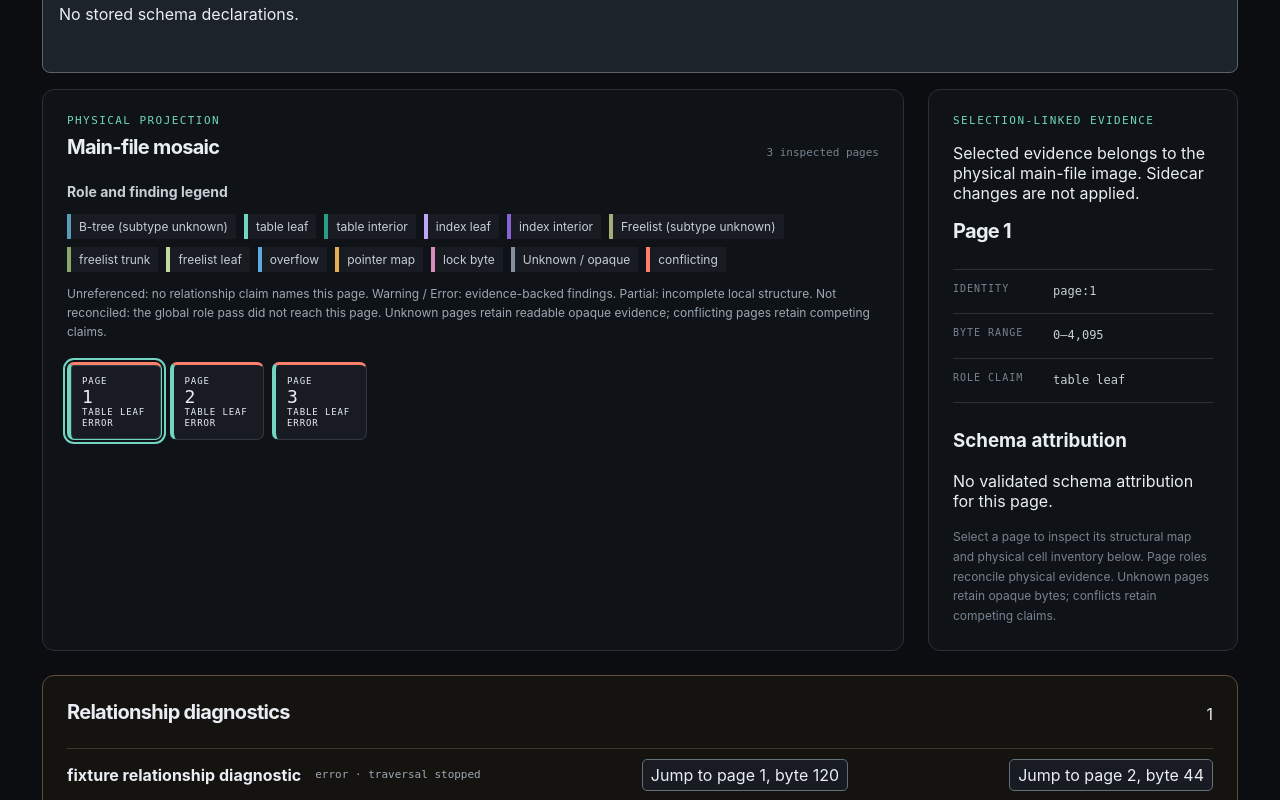
Scenario: page atlas › keeps sidecar consequences visible while selecting main-file pages
This screenshot has width=1280, height=800.
(page scrolled)
Click the button "Page 2 table leaf Error" at (217, 401), box [170,362,264,440]
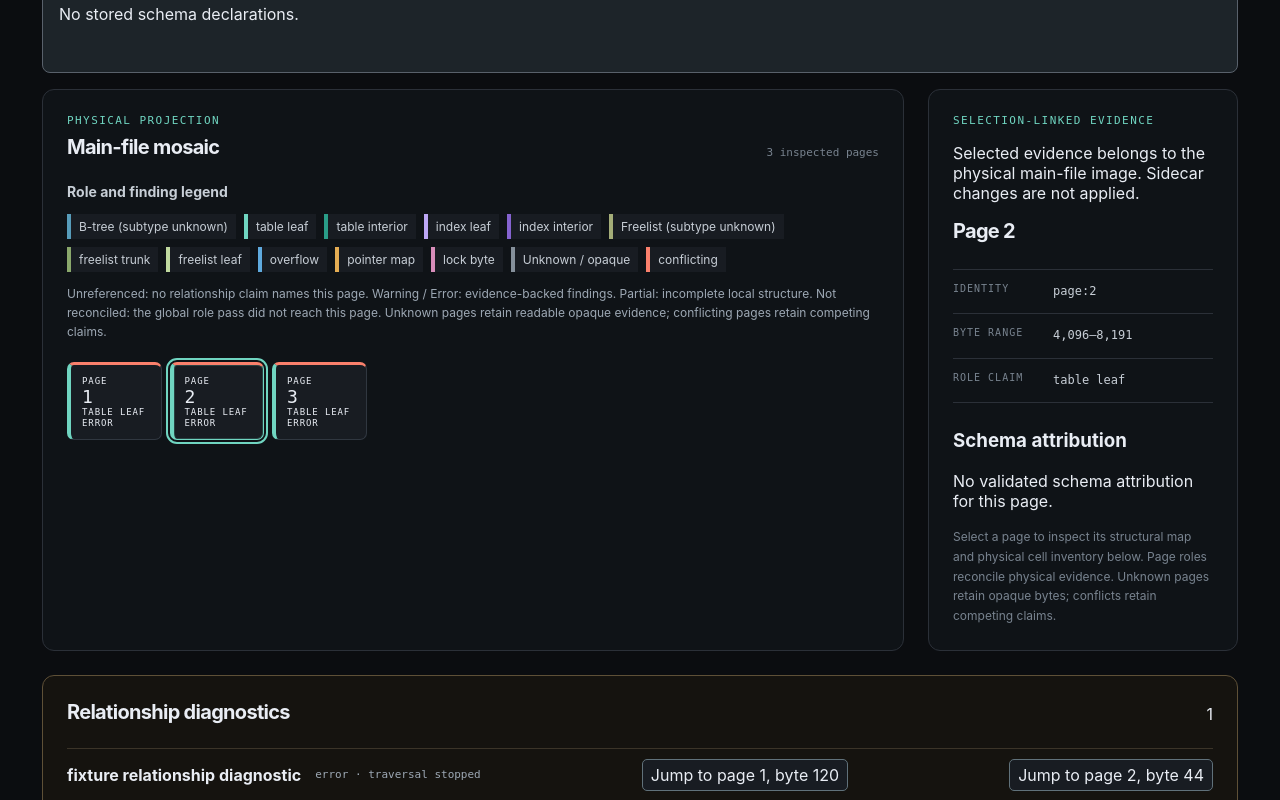
Expected: the text "Selected evidence belongs to the physical main-file image. Sidecar changes are not applied." is shown, [953,143,1205,203]
Result: the heading "Page 2" is shown at [953,219,1015,243]
